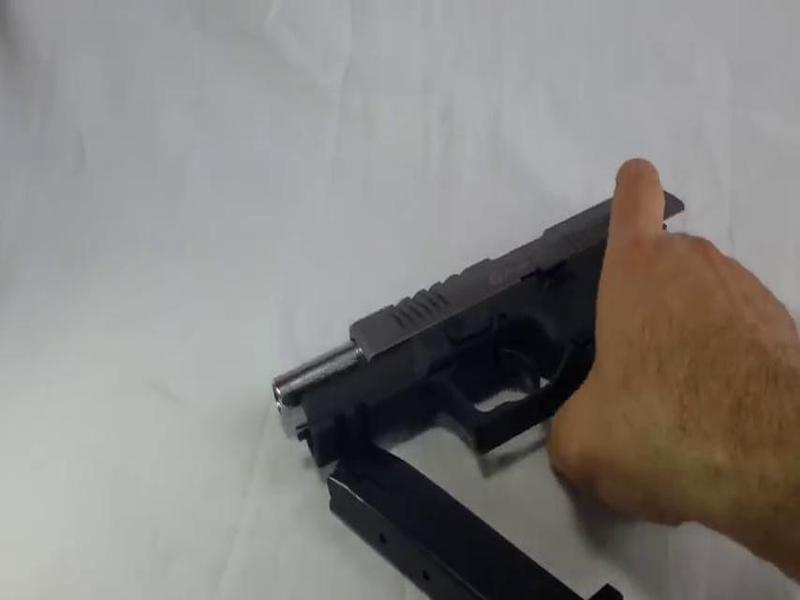Pistola: (262, 173, 738, 490)
